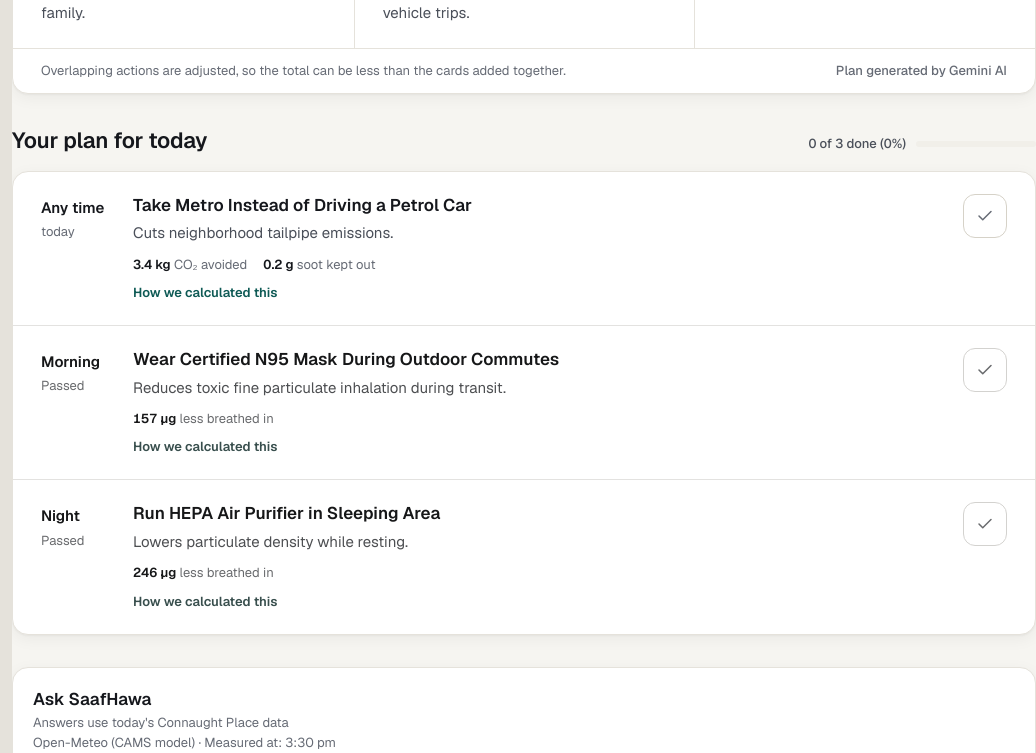
Test: Usability Overhaul - Plan Loading, Focus, Timeline & Progress › marks an action as done, persists in localStorage per day, and updates progress counter
(page scrolled)
Check: the text "0 of 3 done (0%)" is shown, box [808,134,906,154]
Click the button named "Mark action \"Wear Certified N95 Mask During Outdoor Commutes\" as completed": coordinates (985, 370) [963,348,1007,392]
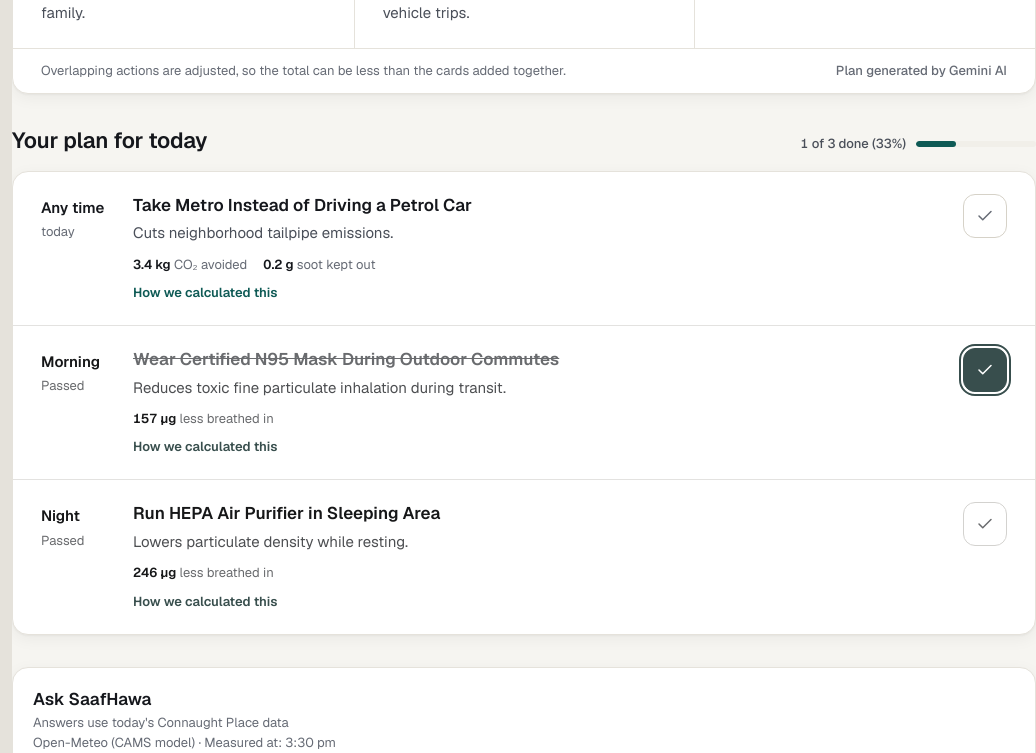
Check: the text "1 of 3 done (33%)" is shown, box [800,134,906,154]
Note: Click again to unmark
Click the button named "Mark action \"Wear Certified N95 Mask During Outdoor Commutes\" as completed": coordinates (985, 370) [963,348,1007,392]
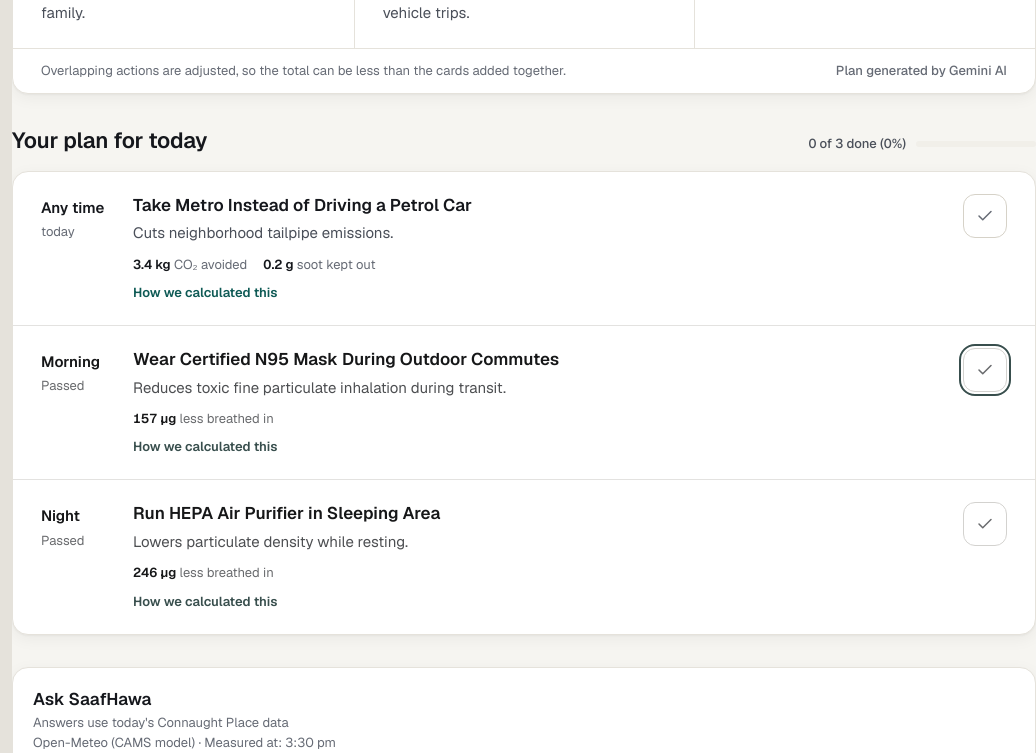
Check: the text "0 of 3 done (0%)" is shown, box [808,134,906,154]
